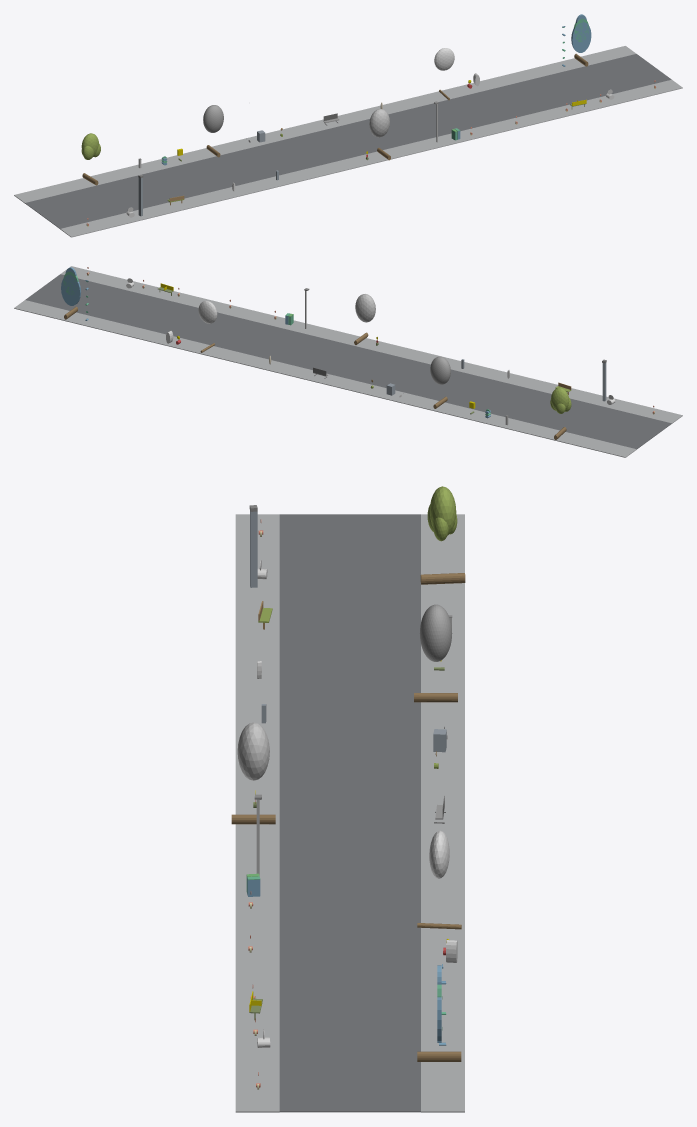
3 renders of one model, top to bottom at view 1: azimuth 30°, elevation 25°; view 2: azimuth 150°, elevation 25°; view 3: azimuth 270°, elevation 25°, orthographic. The views are drawn at different scales.
Visible parts, largest first — view 1: road_slab, sidewalk_left, sidewalk_right, inst_0016, inst_0014, inst_0013, inst_0012, inst_0015; view 2: road_slab, sidewalk_right, sidewalk_left, inst_0016, inst_0014, inst_0013, inst_0012, inst_0015; view 3: road_slab, sidewalk_left, sidewalk_right, inst_0014, inst_0013, inst_0012, inst_0015.
Boxes of the visible parts, <box> form: road_slab: <box>25,54,671,228</box>; sidewalk_left: <box>60,79,682,237</box>; sidewalk_right: <box>14,46,636,203</box>; inst_0016: <box>571,14,591,66</box>; inst_0014: <box>369,109,390,160</box>; inst_0013: <box>203,105,223,157</box>; inst_0012: <box>81,133,100,185</box>; inst_0015: <box>434,48,454,100</box>; road_slab: <box>25,274,671,449</box>; sidewalk_right: <box>14,300,636,457</box>; sidewalk_left: <box>60,266,682,423</box>; inst_0016: <box>61,267,80,319</box>; inst_0014: <box>354,294,375,344</box>; inst_0013: <box>430,356,450,408</box>; inst_0012: <box>550,387,571,439</box>; inst_0015: <box>198,300,217,352</box>; road_slab: <box>279,514,420,1112</box>; sidewalk_left: <box>235,514,279,1112</box>; sidewalk_right: <box>421,514,464,1112</box>; inst_0014: <box>231,722,275,824</box>; inst_0013: <box>414,604,457,702</box>; inst_0012: <box>420,486,465,584</box>; inst_0015: <box>417,830,461,929</box>.
Bounding box in the file's own units: 80 × 6.08 × 13.24.
